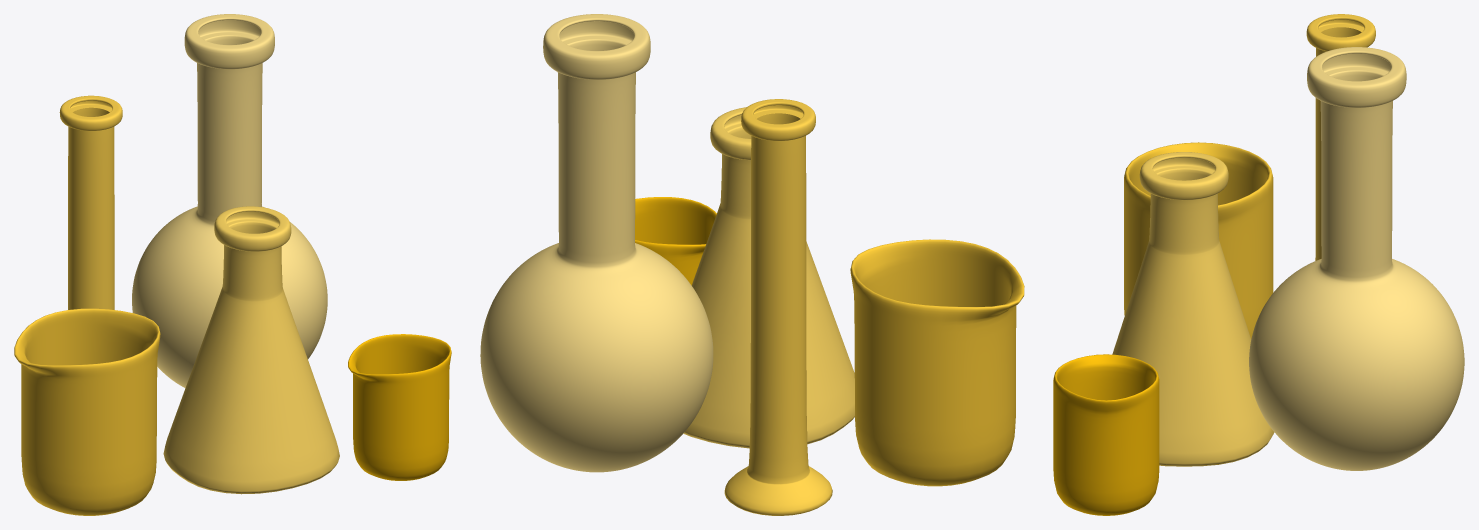
The model's file is Beaker_Group2.glb.
The picture shows the model from 3 angles, left to right: view 1: azimuth 30°, elevation 25°; view 2: azimuth 150°, elevation 25°; view 3: azimuth 270°, elevation 25°; orthographic projection. The views are drawn at different scales.
Visible parts, largest first — view 1: pCylinder1, pSphere1, pCylinder2, pCylinder3, pCylinder4; view 2: pSphere1, pCylinder2, pCylinder4, pCylinder1, pCylinder3; view 3: pSphere1, pCylinder1, pCylinder3, pCylinder2, pCylinder4.
Part boxes in pixels (<box>): pCylinder1: <box>163,206,339,494</box>; pSphere1: <box>132,14,327,387</box>; pCylinder2: <box>14,308,160,515</box>; pCylinder3: <box>348,334,451,480</box>; pCylinder4: <box>59,95,122,309</box>; pSphere1: <box>480,14,713,472</box>; pCylinder2: <box>850,239,1024,486</box>; pCylinder4: <box>724,99,832,515</box>; pCylinder1: <box>683,107,854,448</box>; pCylinder3: <box>635,197,716,285</box>; pSphere1: <box>1249,47,1464,470</box>; pCylinder1: <box>1112,152,1274,466</box>; pCylinder3: <box>1053,354,1159,515</box>; pCylinder2: <box>1124,142,1273,338</box>; pCylinder4: <box>1306,14,1375,260</box>.
Bounding box in the file's own units: 1.64 × 1.49 × 1.37.
